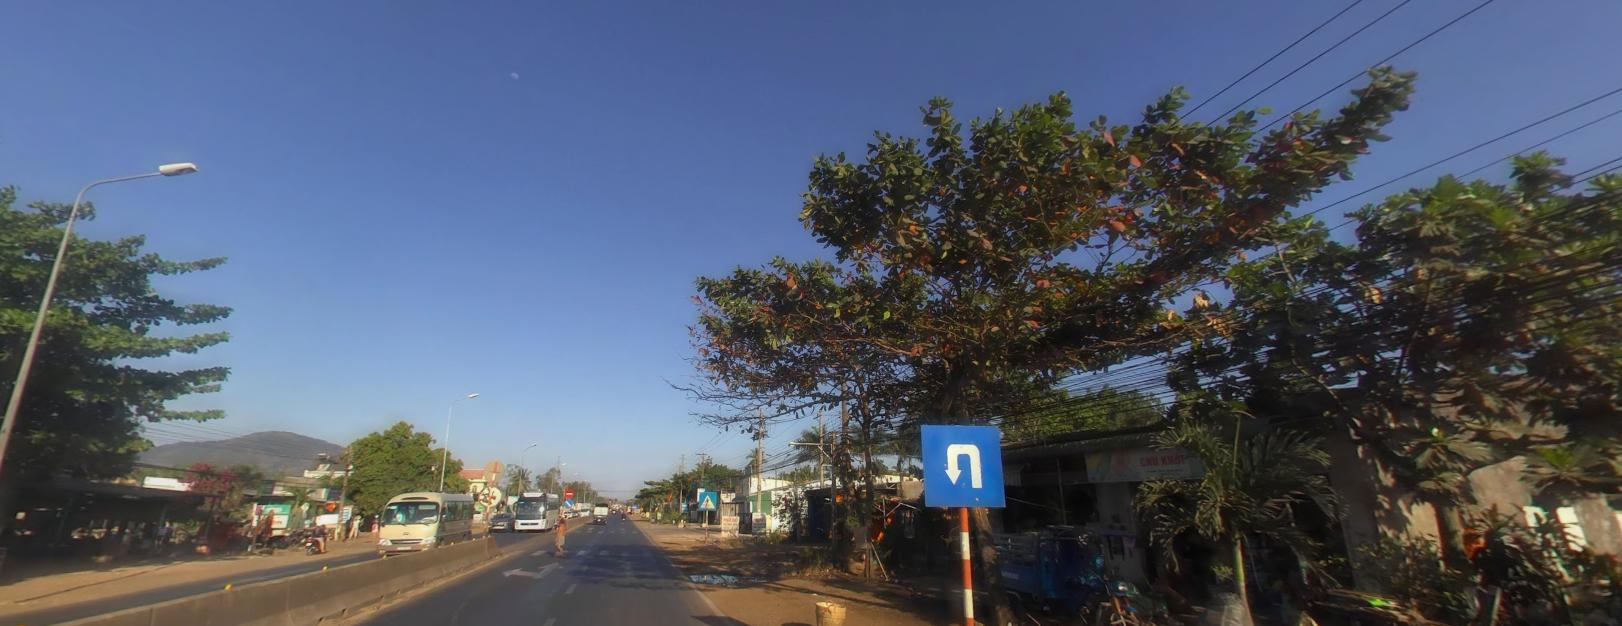Cam nguoc chieu: (564, 487, 574, 496)
Hieu lenh: (563, 498, 572, 507)
Nguy hiem: (638, 505, 643, 510)
